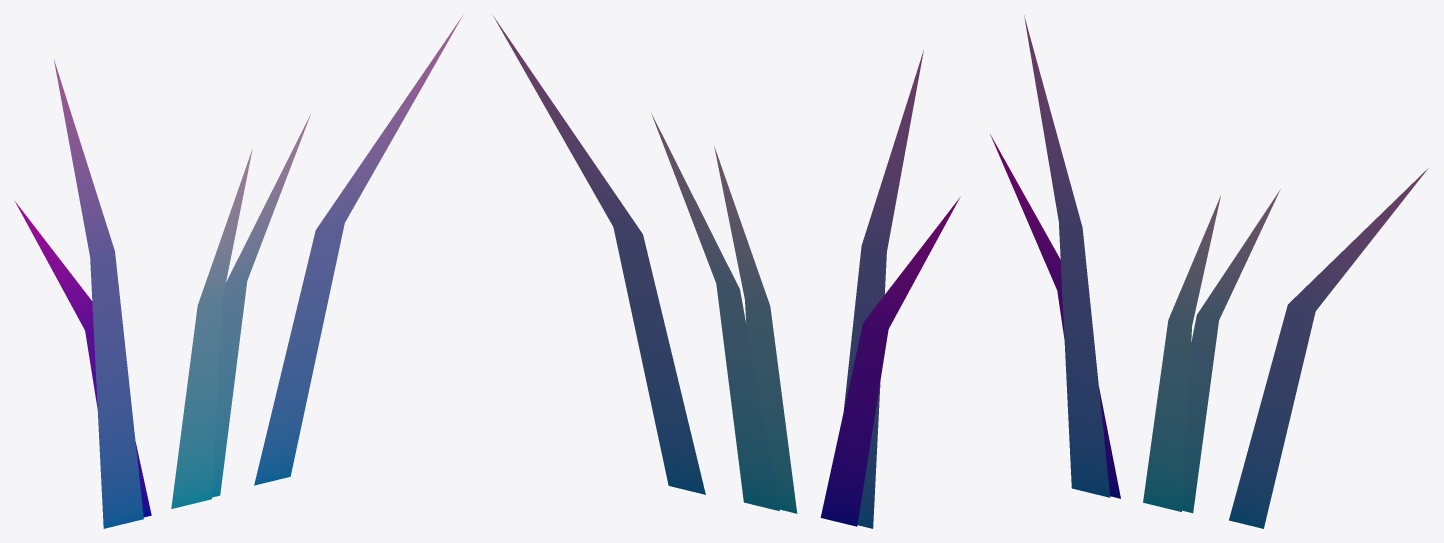
The model's file is grass_clump2.fbx.
3 renders of one model, left to right at view 1: azimuth 30°, elevation 25°; view 2: azimuth 150°, elevation 25°; view 3: azimuth 330°, elevation 25°, orthographic. The views are drawn at different scales.
Parts seen in each view (by area): view 1: grass_clump2; view 2: grass_clump2; view 3: grass_clump2.
Part boxes in pixels (x1=…): grass_clump2: x1=15, y1=16, x2=462, y2=528; grass_clump2: x1=493, y1=16, x2=960, y2=528; grass_clump2: x1=990, y1=15, x2=1428, y2=528.
Size of the model in its own units: 46.46 by 47.18 by 1.2.
